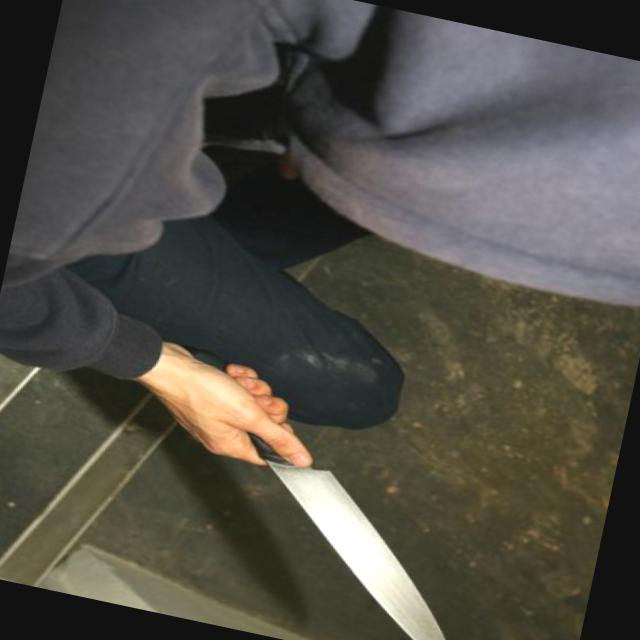knife: (173, 381, 515, 639)
